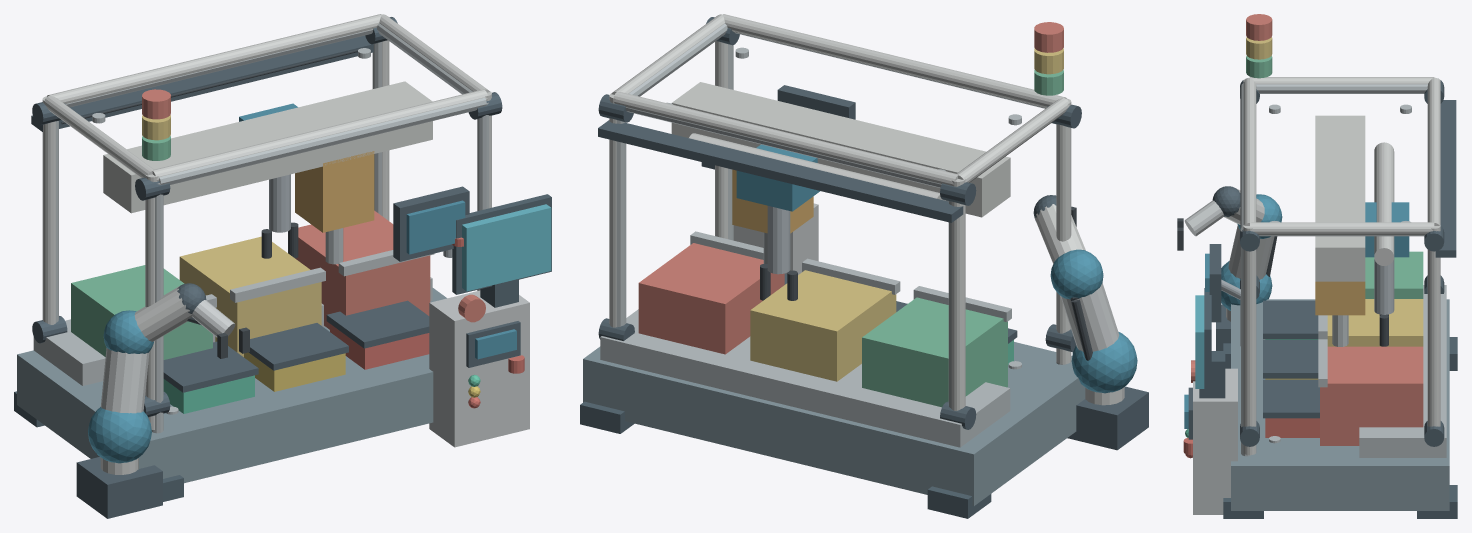
Rendered from scorer.glb.
3 renders of one model, left to right at view 1: azimuth 30°, elevation 25°; view 2: azimuth 150°, elevation 25°; view 3: azimuth 270°, elevation 25°, orthographic. The views are drawn at different scales.
Parts seen in each view (by area): view 1: fabricated_base, sort_gantry, v9_30, bin_0, bin_1.8, operator_hmi_screen, bin_-1.8, sort_carriage, v9_24, v9_20, v9_37, toprail_1.5 (+38 smaller); view 2: fabricated_base, control_plinth, sort_gantry, bin_0, bin_-1.8, bin_1.8, v9_24, v9_21, v9_20, v9_37, v9_0, v9_39 (+28 smaller); view 3: fabricated_base, bin_1.8, sort_gantry, v9_30, control_plinth, bin_0, v9_15, v9_24, v9_23, v9_10, v9_64, v9_60 (+35 smaller).
Part boxes in pixels (<box>): fabricated_base: <box>17,288,446,483</box>; sort_gantry: <box>103,81,432,213</box>; v9_30: <box>429,290,529,447</box>; bin_0: <box>179,236,321,356</box>; bin_1.8: <box>295,210,430,329</box>; operator_hmi_screen: <box>462,204,551,291</box>; bin_-1.8: <box>71,265,212,359</box>; sort_carriage: <box>295,151,374,232</box>; v9_24: <box>31,35,373,131</box>; v9_20: <box>47,14,381,103</box>; v9_37: <box>76,457,162,518</box>; toprail_1.5: <box>159,97,486,184</box>; fabricated_base: <box>583,342,1085,506</box>; control_plinth: <box>600,309,1010,447</box>; sort_gantry: <box>671,82,1010,217</box>; bin_0: <box>750,270,896,381</box>; bin_-1.8: <box>862,297,1007,407</box>; bin_1.8: <box>638,243,784,354</box>; v9_24: <box>598,120,963,222</box>; v9_21: <box>722,14,1066,107</box>; v9_20: <box>613,92,957,185</box>; v9_37: <box>1067,386,1148,450</box>; v9_0: <box>951,179,965,410</box>; v9_39: <box>1071,332,1137,393</box>; fabricated_base: <box>1231,299,1449,510</box>; bin_1.8: <box>1320,346,1423,445</box>; sort_gantry: <box>1315,115,1365,281</box>; v9_30: <box>1193,368,1237,514</box>; control_plinth: <box>1359,285,1446,457</box>; bin_0: <box>1327,299,1423,346</box>; v9_15: <box>1243,225,1256,455</box>; v9_24: <box>1435,100,1456,257</box>; v9_23: <box>1250,222,1434,235</box>; v9_10: <box>1427,225,1440,426</box>; v9_64: <box>1263,379,1319,418</box>; v9_60: <box>1263,300,1318,339</box>.
Size of the model in its own units: 7.25 by 6.15 by 4.48.
